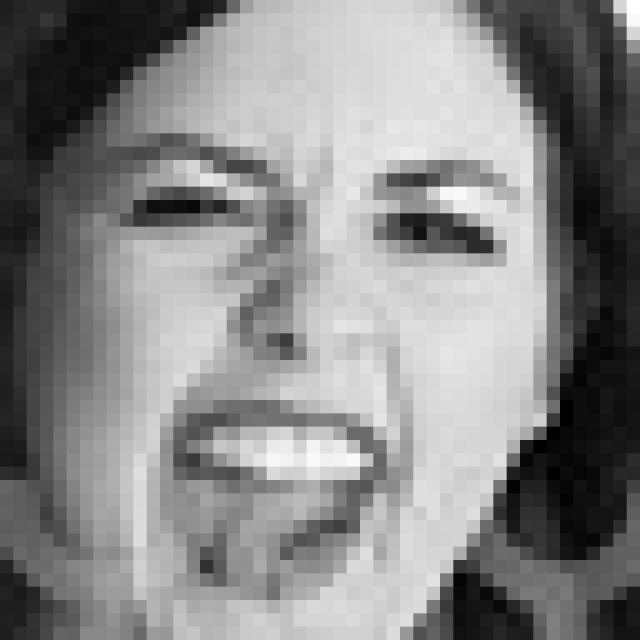angry: (83, 112, 526, 603)
